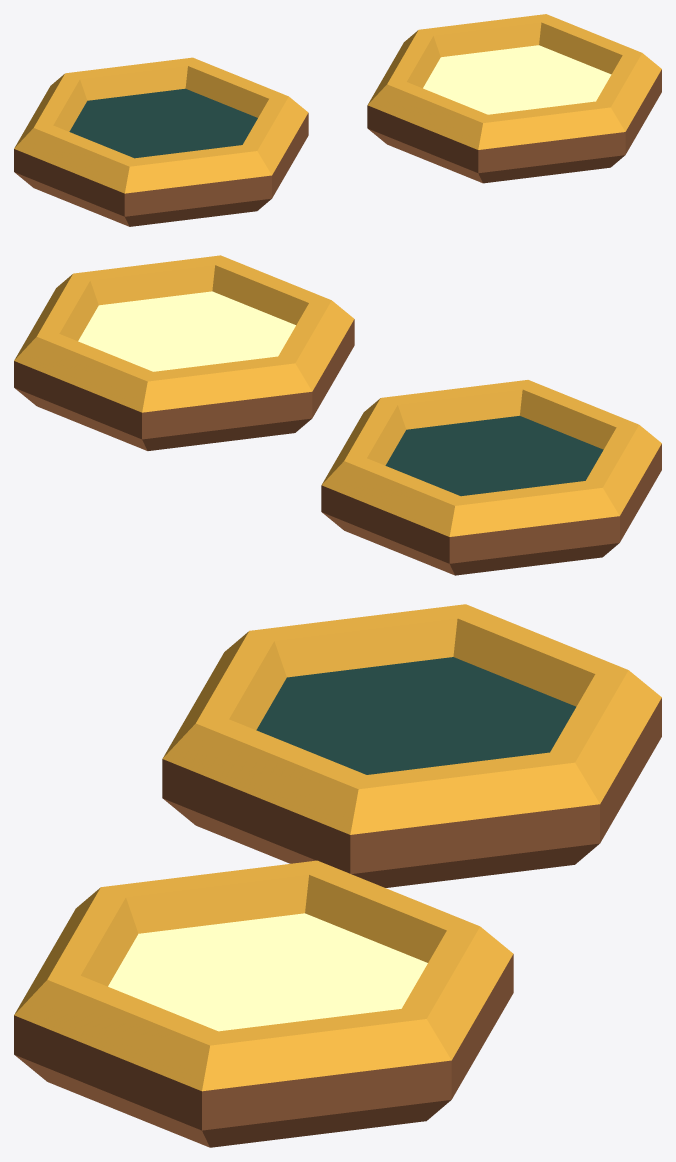
The model's file is Hex_Tiles_Proposed.fbx.
3 renders of one model, top to bottom at view 1: azimuth 30°, elevation 25°; view 2: azimuth 150°, elevation 25°; view 3: azimuth 270°, elevation 25°, orthographic. The views are drawn at different scales.
Parts seen in each view (by area): view 1: Face.001, Face_Lit.001; view 2: Face.001, Face_Lit.001; view 3: Face_Lit.001, Face.001.
Part boxes in pixels (left/top/right/bottom): Face.001: left=14, top=57, right=308, bottom=226; Face_Lit.001: left=367, top=14, right=661, bottom=183; Face.001: left=321, top=380, right=661, bottom=575; Face_Lit.001: left=14, top=255, right=354, bottom=450; Face_Lit.001: left=14, top=860, right=513, bottom=1147; Face.001: left=162, top=604, right=661, bottom=887.
Size of the model in its own units: 145 by 14.7 by 84.52.
